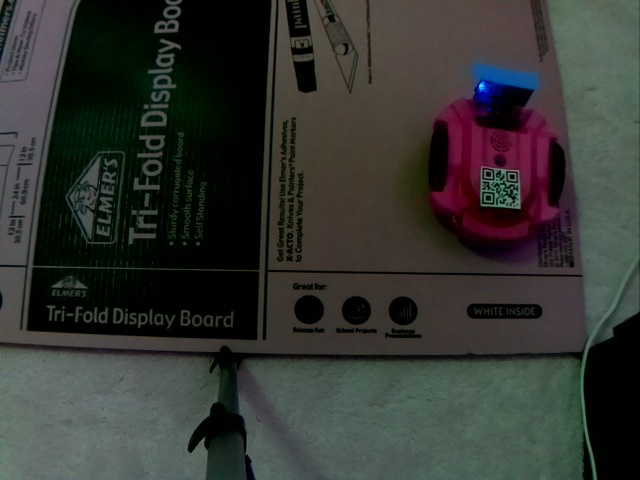chassis: (424, 59, 565, 245)
qr: (476, 163, 526, 215)
